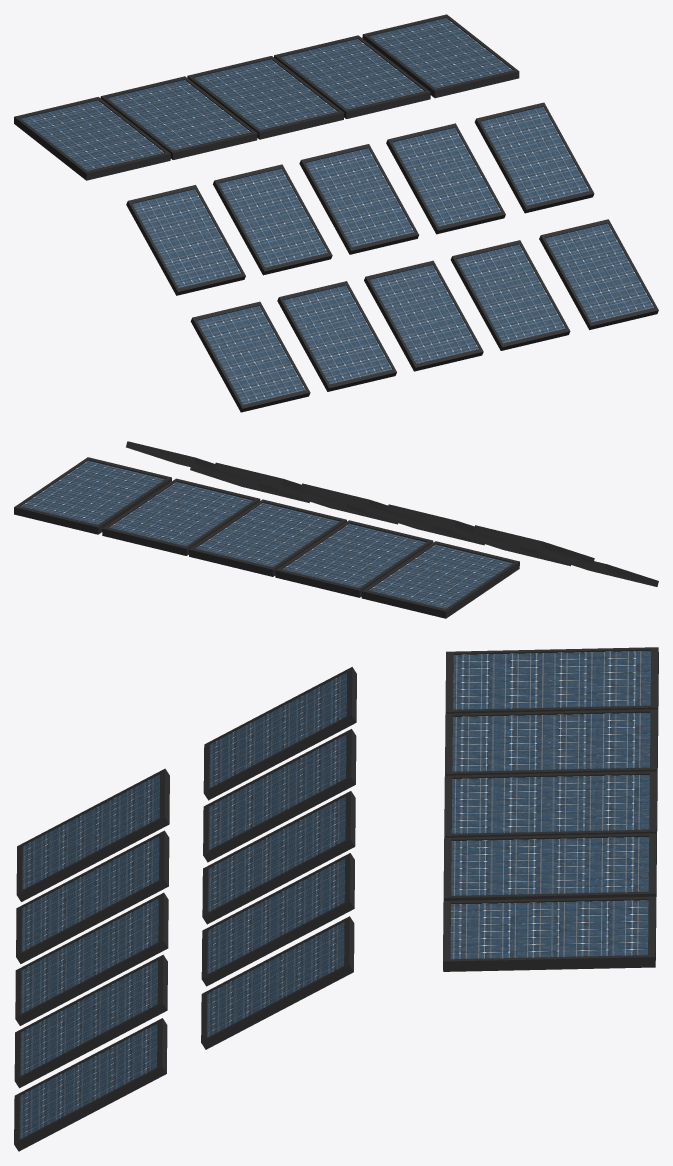
Rendered from Solar.glb.
3 renders of one model, top to bottom at view 1: azimuth 30°, elevation 25°; view 2: azimuth 150°, elevation 25°; view 3: azimuth 270°, elevation 25°, orthographic. The views are drawn at different scales.
Visible parts, largest first — view 1: Solar; view 2: Solar; view 3: Solar.
Boxes of the visible parts, x1,y1,x2,y2 form: Solar: (14,14,658,412); Solar: (14,441,658,618); Solar: (14,647,658,1151).
Size of the model in its own units: 3.33 by 1.03 by 2.96.
Materials: 2 (1 with a texture image).
